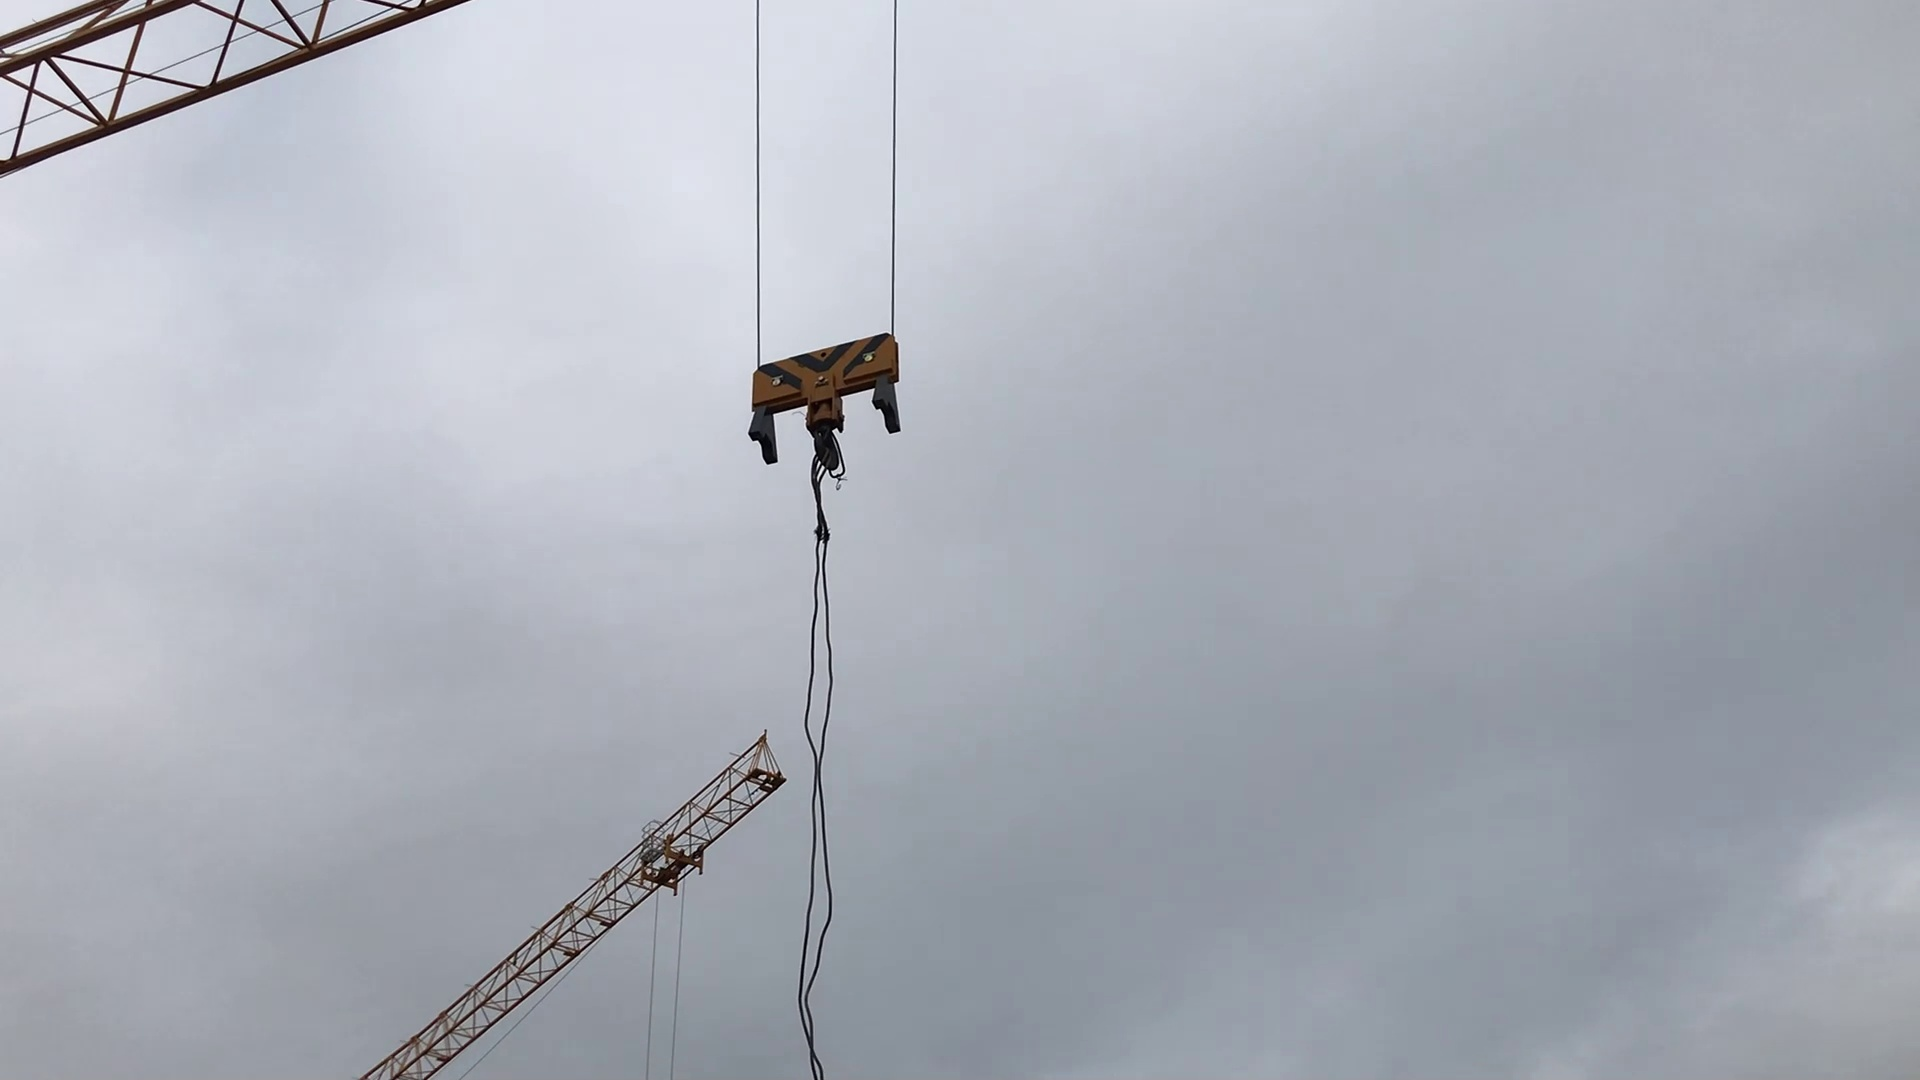hook: (736, 322, 915, 504)
